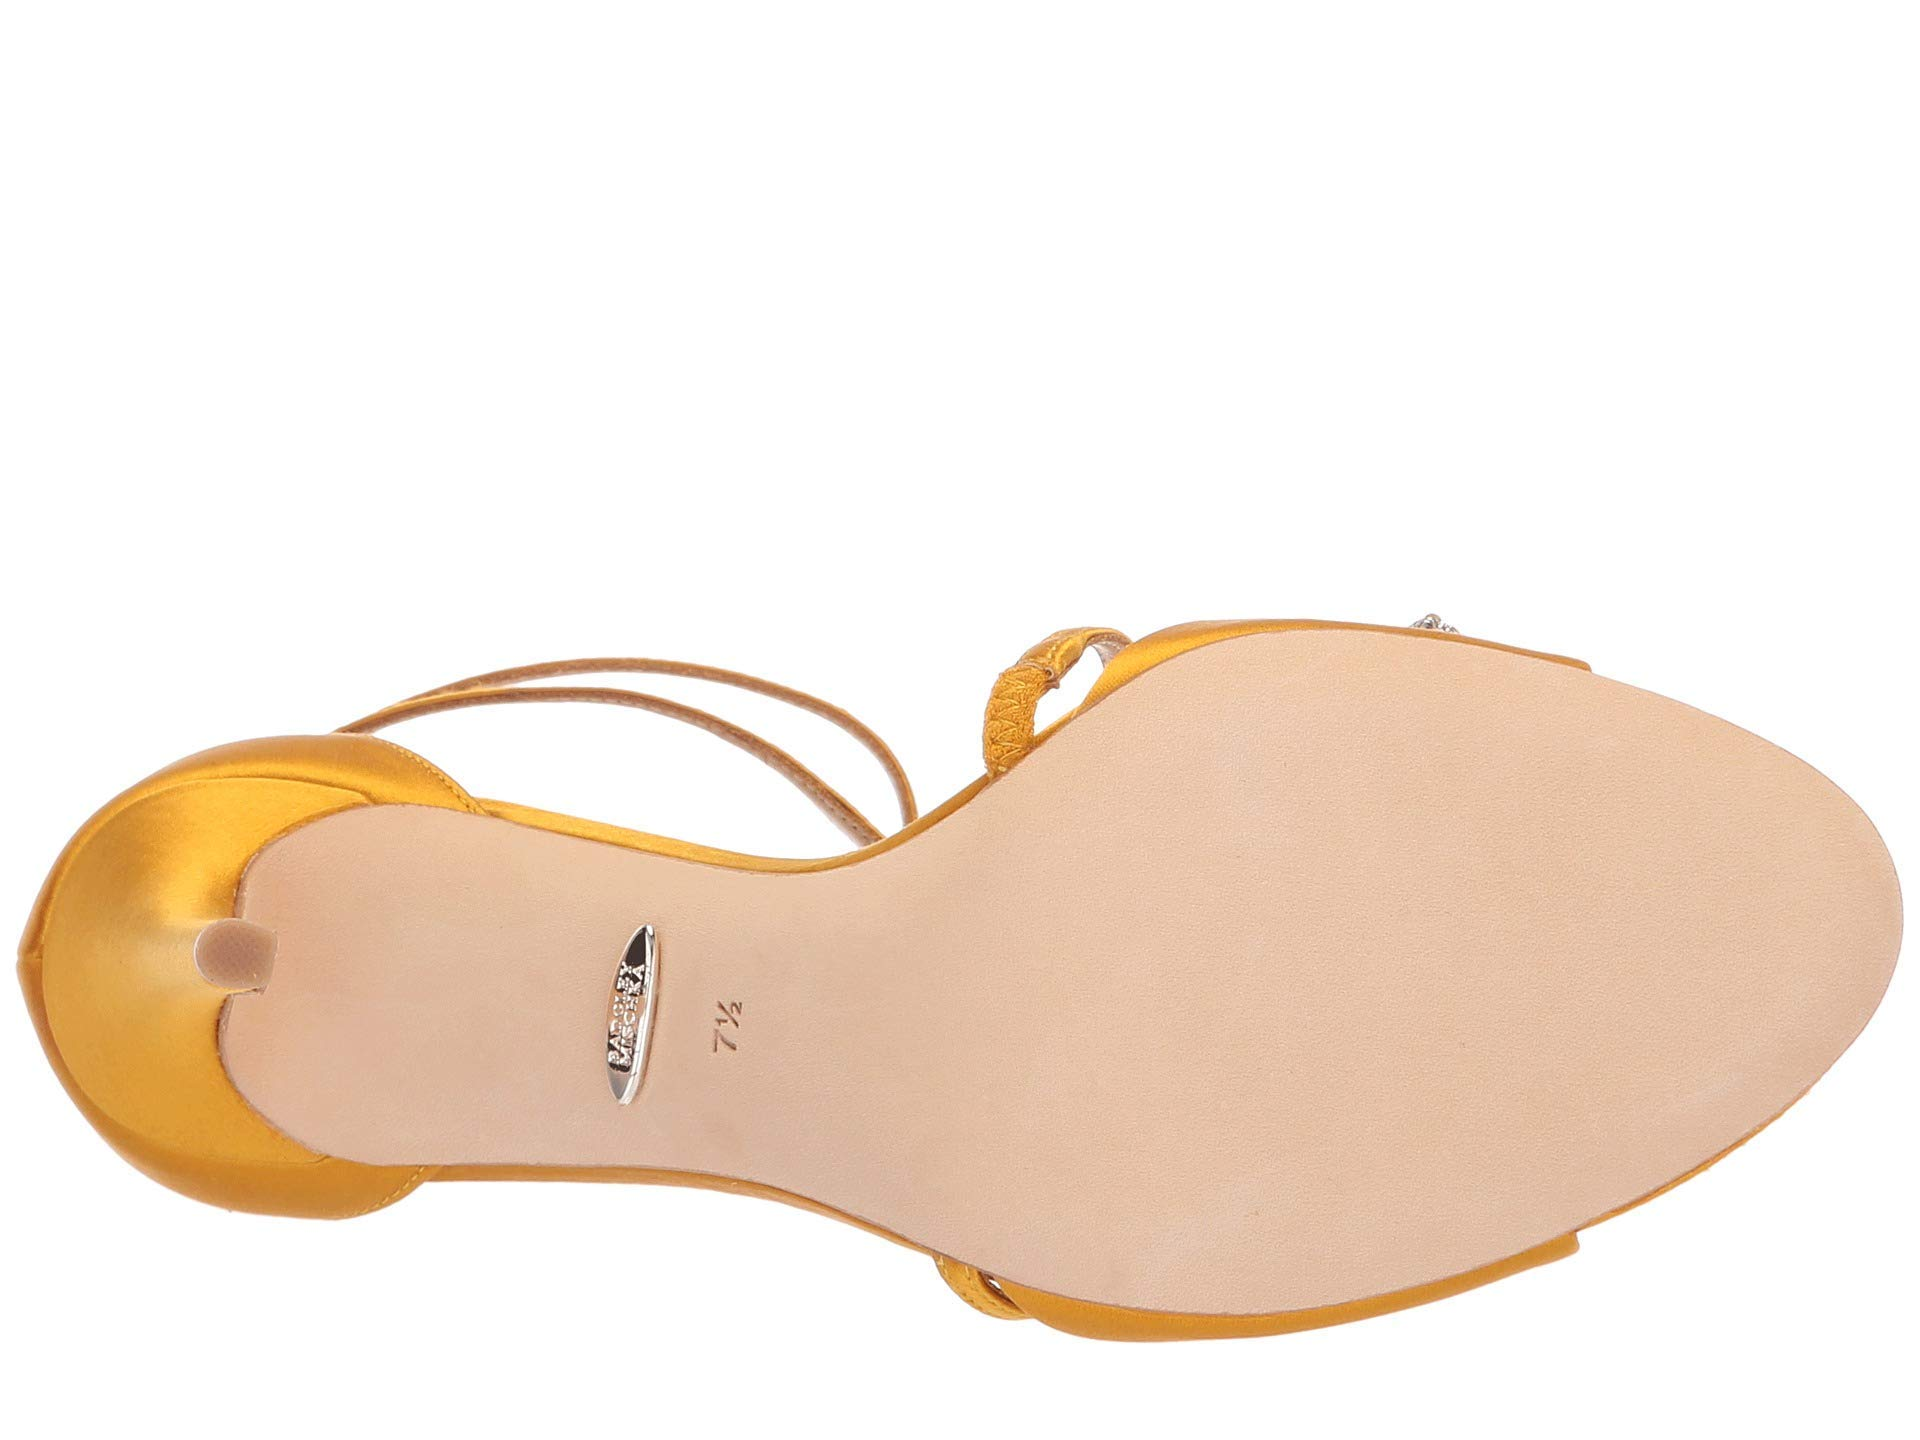text: (680, 982, 804, 1088)
